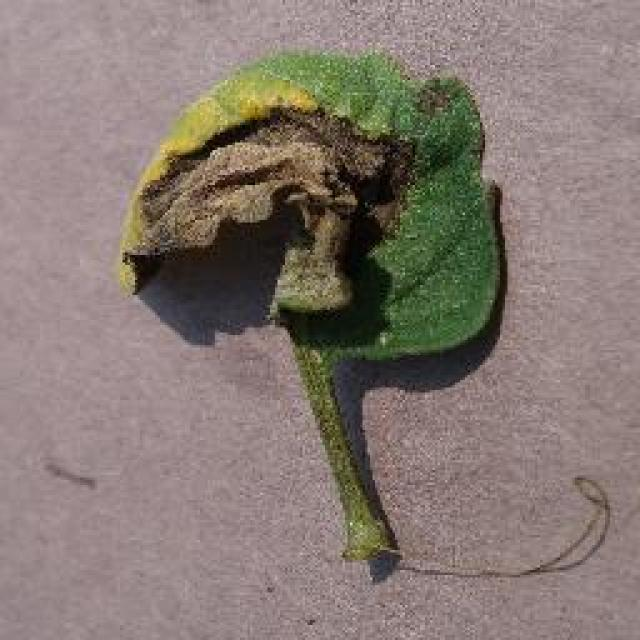Tomato Late Blight: (160, 85, 438, 347)
